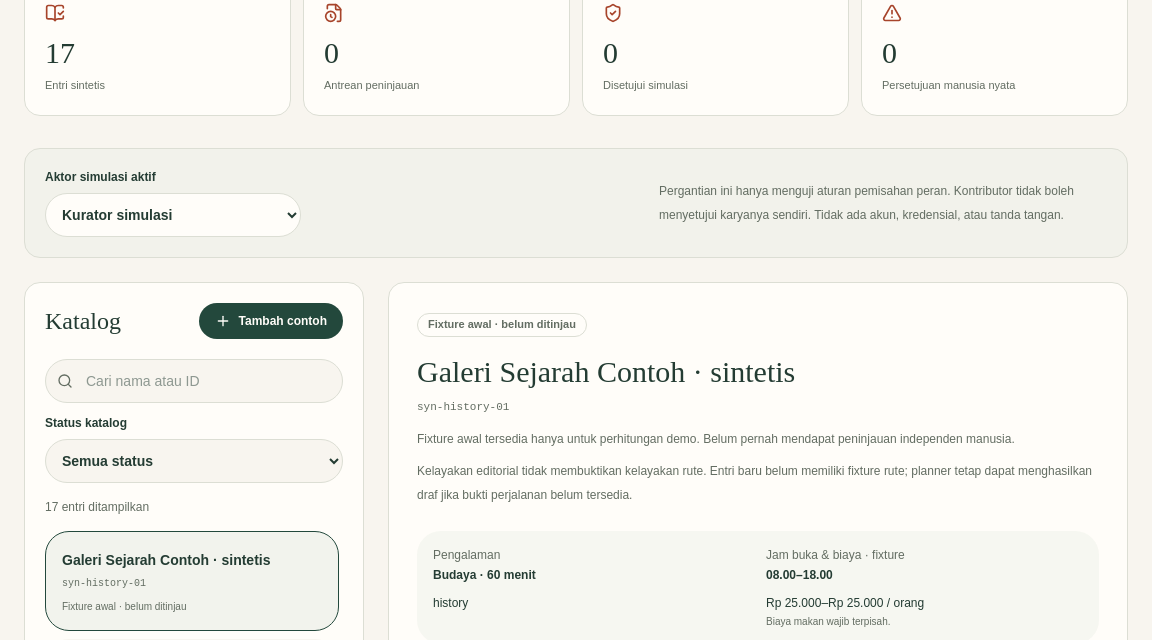
Scenario: synthetic editorial workbench › labels baseline fixtures honestly and searches/filters the actual catalogue
(page scrolled)
expect the text "17 entri ditampilkan" is shown: met, box [45, 500, 149, 514]
Type "syn-food-01" into the search field named "Cari entri editorial" at (194, 381), box [45, 359, 343, 403]
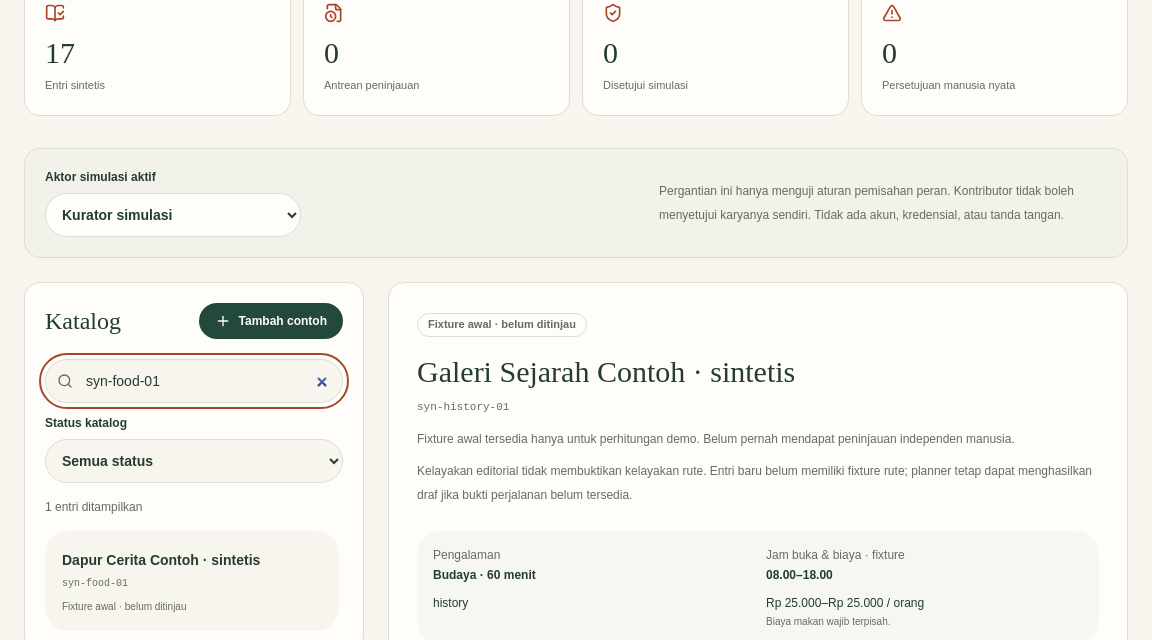
expect the button "Dapur Cerita Contoh" is shown: met, box [45, 531, 339, 631]
expect the text "1 entri ditampilkan" is shown: met, box [45, 500, 142, 514]
Select "Disetujui · simulasi" in the dropdown labelled "Status katalog" at (194, 461), box [45, 439, 343, 483]
(page scrolled)
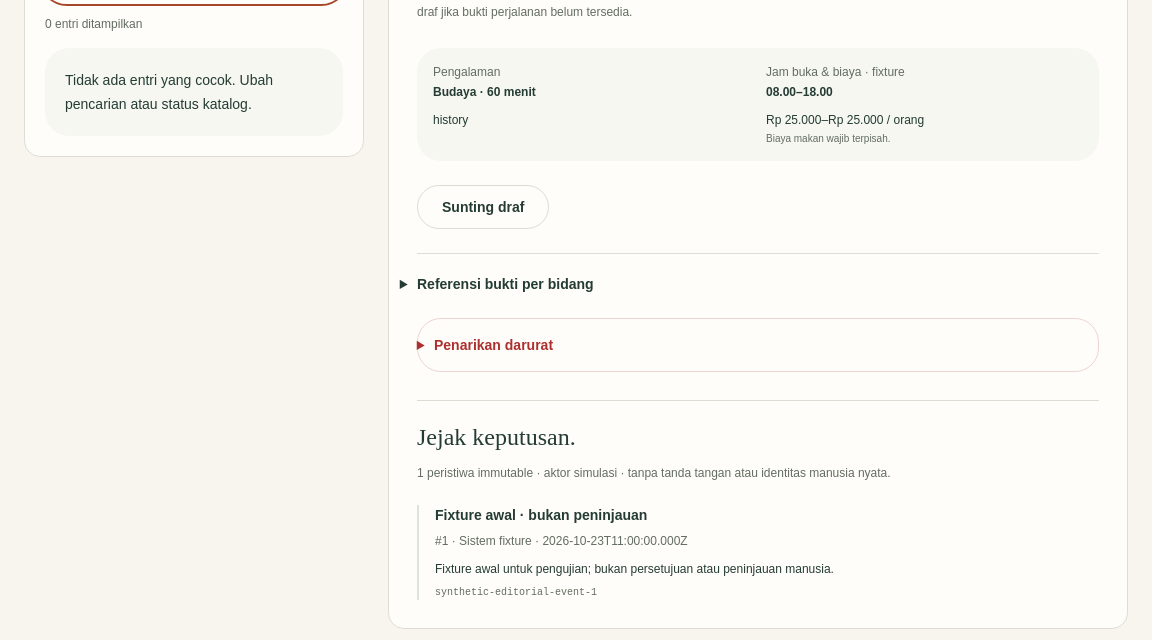
expect the text "Fixture awal · bukan peninjauan" is shown: met, box [435, 507, 647, 523]
expect the message shows "Tidak ada entri": met, box [65, 72, 273, 112]
